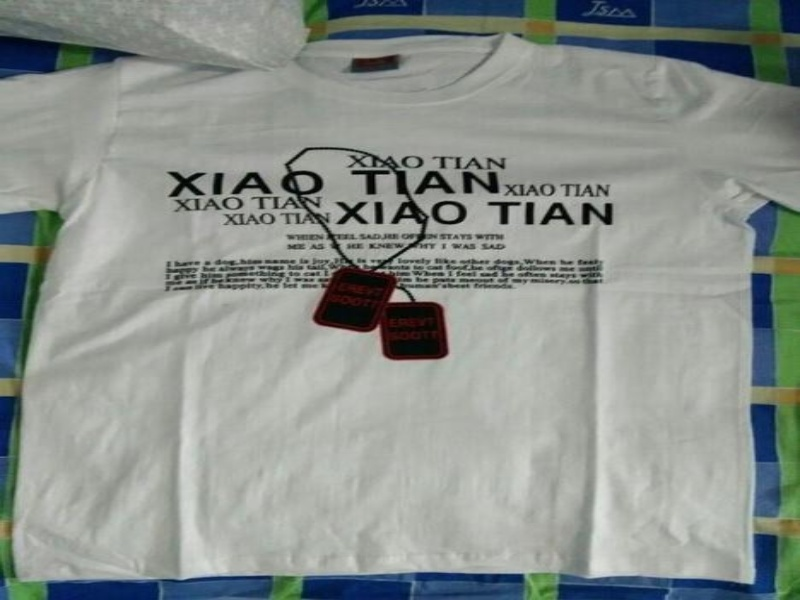short_sleeved_shirt: (0, 32, 798, 588)
